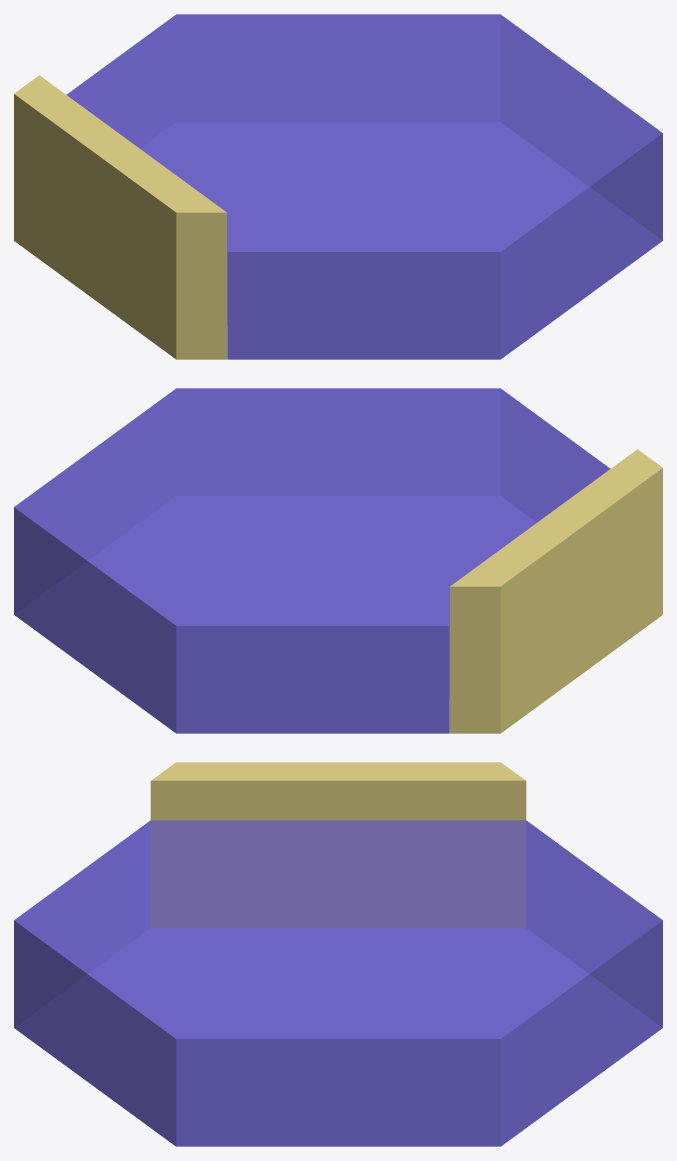
File: HexCell_Beach_Connect_1.glb
3 renders of one model, top to bottom at view 1: azimuth 30°, elevation 25°; view 2: azimuth 150°, elevation 25°; view 3: azimuth 270°, elevation 25°, orthographic.
Visible parts, largest first — view 1: HexCell_Beach_Connect_1; view 2: HexCell_Beach_Connect_1; view 3: HexCell_Beach_Connect_1.
Part boxes in pixels (bbox=[...]): HexCell_Beach_Connect_1: bbox=[14, 14, 662, 359]; HexCell_Beach_Connect_1: bbox=[14, 388, 662, 733]; HexCell_Beach_Connect_1: bbox=[14, 762, 662, 1146].
Bounding box in the file's own units: 1.73 × 0.5 × 2.
